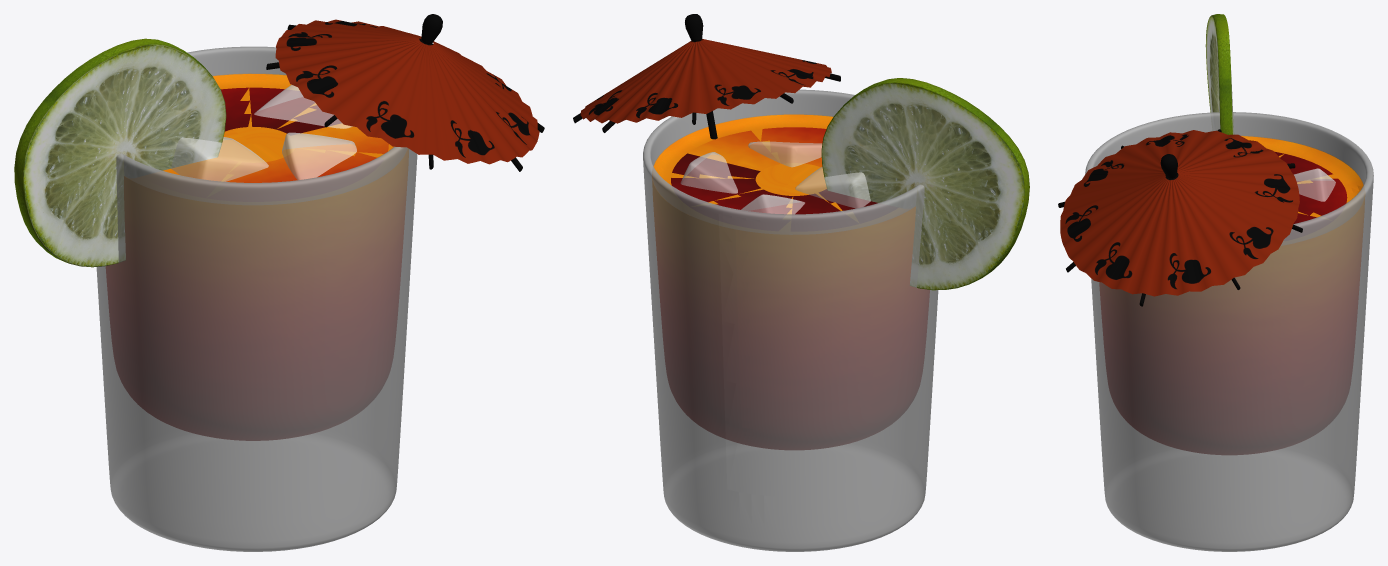
Rendered from Juice.dae.
3 views of the same model, side by side, from view 1: azimuth 30°, elevation 25°; view 2: azimuth 150°, elevation 25°; view 3: azimuth 270°, elevation 25° (orthographic). The views are drawn at different scales.
Visible parts, largest first — view 1: cgaxis_mod_Defintion, _3DGeom_3_Defintion, _3DGeom_5_Defintion (×2), _3DGeom_8_Defintion, _3DGeom_2_Defintion, _3DGeom_4_Defintion (×3); view 2: cgaxis_mod_Defintion, _3DGeom_3_Defintion, _3DGeom_5_Defintion (×2), _3DGeom_2_Defintion, _3DGeom_8_Defintion, _3DGeom_4_Defintion (×4); view 3: cgaxis_mod_Defintion, _3DGeom_3_Defintion, _3DGeom_8_Defintion, _3DGeom_2_Defintion, _3DGeom_5_Defintion (×2), _3DGeom_4_Defintion.
Boxes of the visible parts, bbox=[...] form: cgaxis_mod_Defintion: bbox=[96, 46, 417, 551]; _3DGeom_3_Defintion: bbox=[106, 148, 408, 440]; _3DGeom_5_Defintion (×2): bbox=[14, 38, 226, 267]; _3DGeom_8_Defintion: bbox=[275, 19, 539, 164]; _3DGeom_2_Defintion: bbox=[163, 73, 407, 182]; _3DGeom_4_Defintion (×3): bbox=[171, 84, 356, 181]; cgaxis_mod_Defintion: bbox=[643, 89, 938, 551]; _3DGeom_3_Defintion: bbox=[652, 181, 929, 449]; _3DGeom_5_Defintion (×2): bbox=[821, 78, 1029, 290]; _3DGeom_2_Defintion: bbox=[652, 114, 877, 214]; _3DGeom_8_Defintion: bbox=[580, 39, 831, 123]; _3DGeom_4_Defintion (×4): bbox=[680, 141, 870, 214]; cgaxis_mod_Defintion: bbox=[1085, 112, 1373, 551]; _3DGeom_3_Defintion: bbox=[1099, 199, 1364, 454]; _3DGeom_8_Defintion: bbox=[1060, 130, 1299, 296]; _3DGeom_2_Defintion: bbox=[1241, 136, 1364, 223]; _3DGeom_5_Defintion (×2): bbox=[1205, 14, 1232, 134]; _3DGeom_4_Defintion: bbox=[1294, 168, 1335, 201].
Bounding box in the file's own units: 208 × 134 × 198.
Materials: 6 (3 with a texture image).
